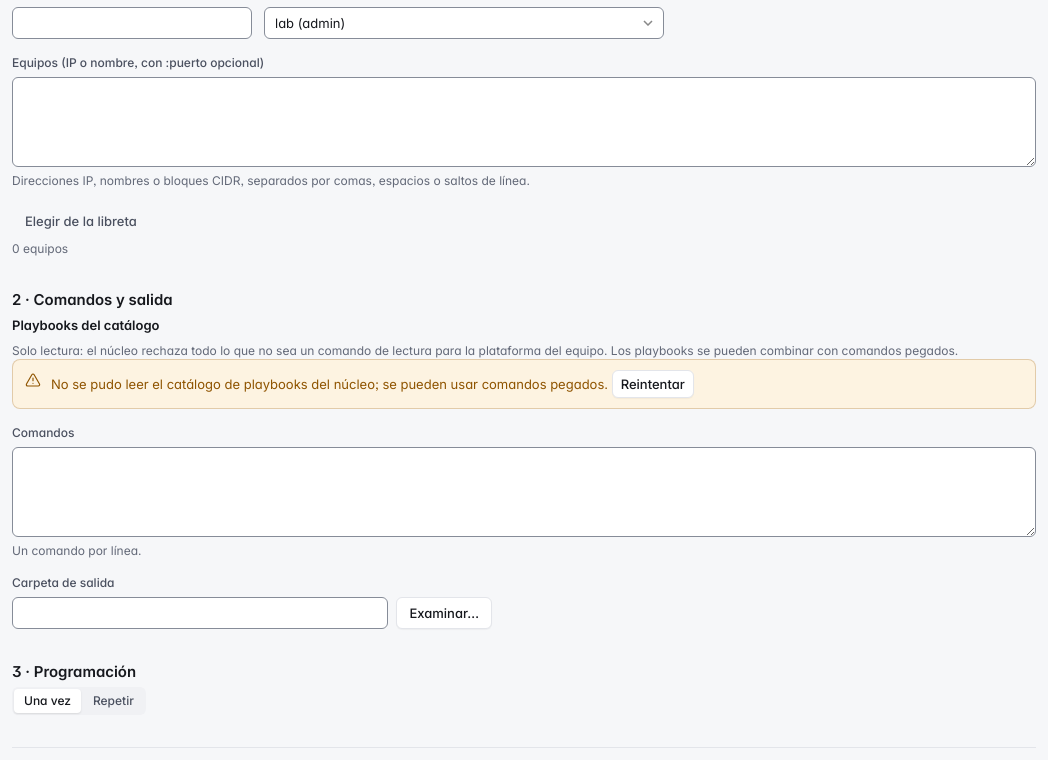
Test: el catálogo que falló se puede reintentar
Click the button "Reintentar".
click(653, 384)  # box [612,370,694,398]
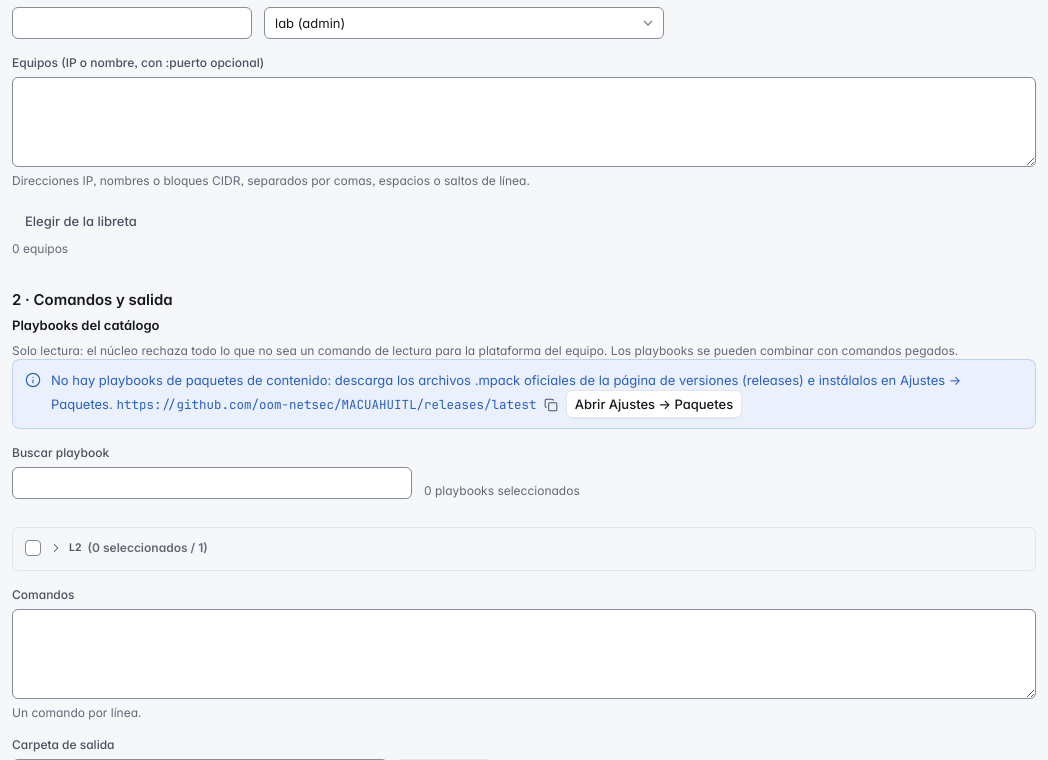
Check: the button "L2 (0 seleccionados / 1)" is shown
Click the button "L2 (0 seleccionados / 1)".
click(148, 548)  # box [49,532,1023,564]
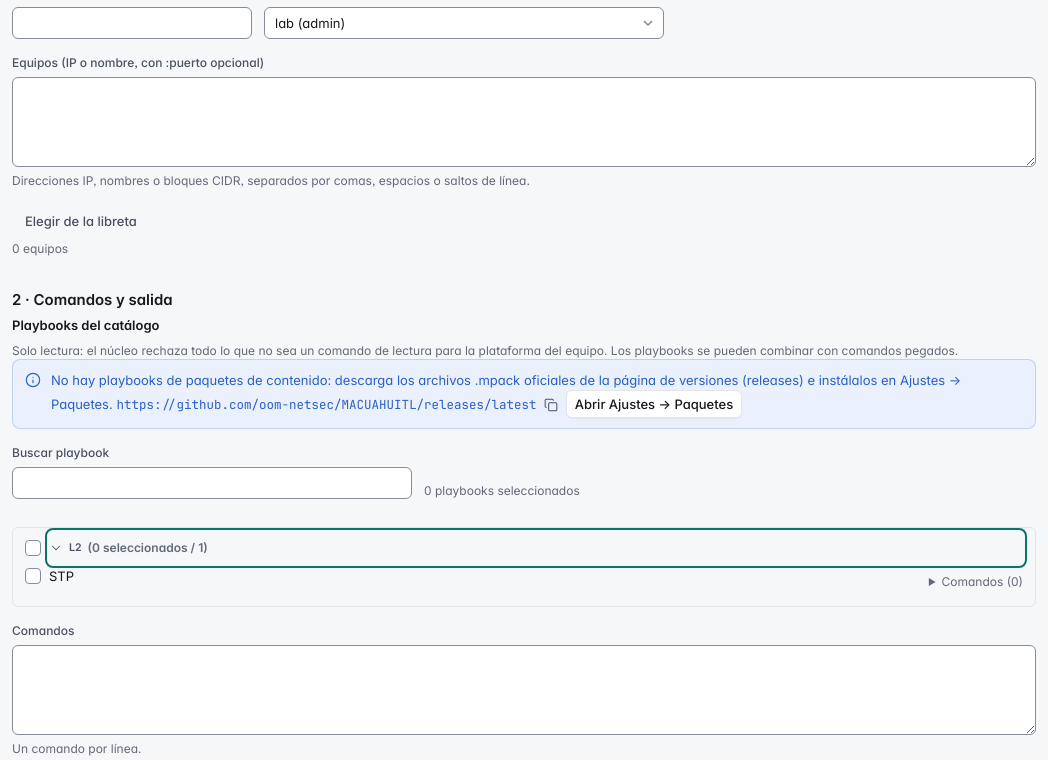
Check: the checkbox labelled "STP" is shown, box [25,568,41,584]
